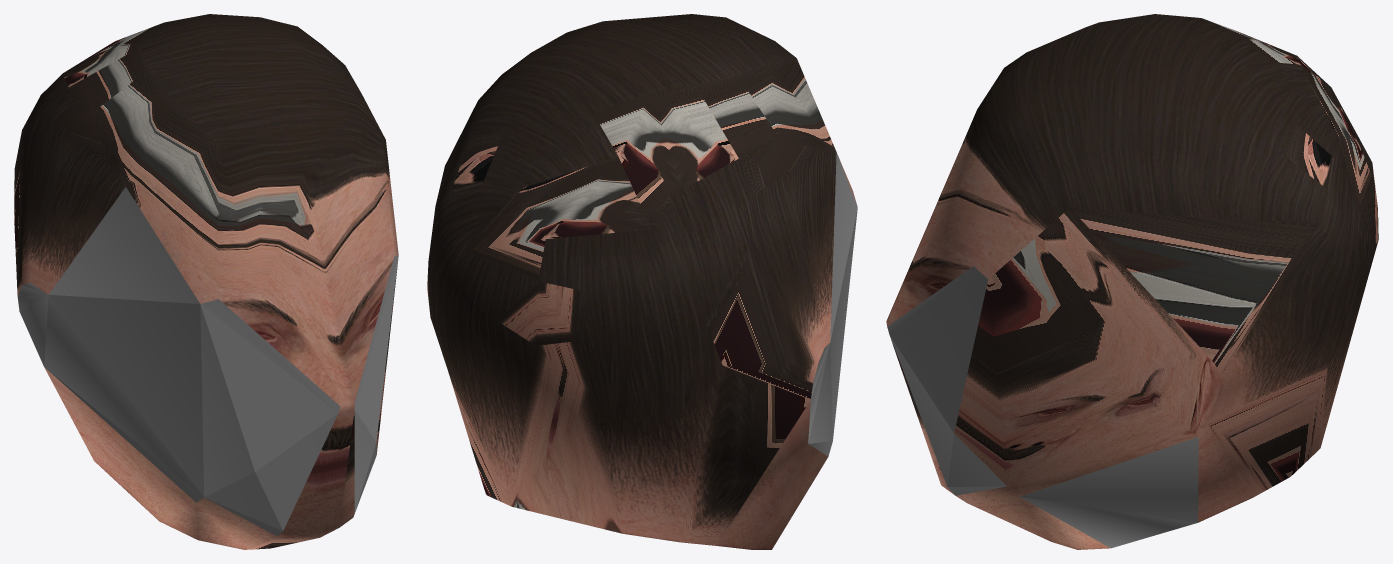
File: hitler_head_collider.obj
3 renders of one model, left to right at view 1: azimuth 30°, elevation 25°; view 2: azimuth 150°, elevation 25°; view 3: azimuth 270°, elevation 25°, orthographic. The views are drawn at different scales.
Parts seen in each view (by area): view 1: Default; view 2: Default; view 3: Default.
Part boxes in pixels (x1,y1,x2,y2): Default: (14, 14, 398, 549); Default: (427, 14, 857, 549); Default: (886, 14, 1378, 549).
Size of the model in its own units: 7.77 by 10.31 by 9.22.
2 materials, 1 textured.
